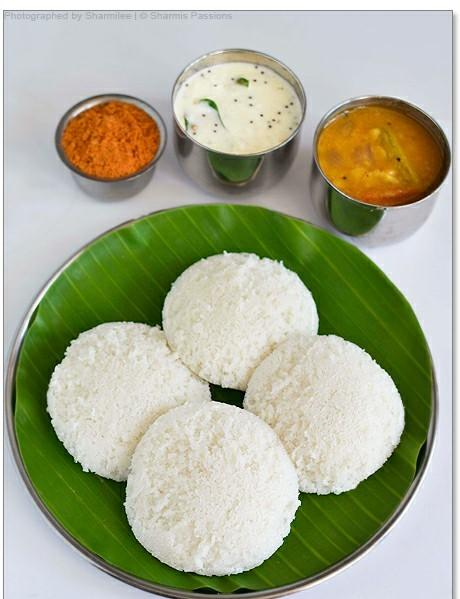Idli: (124, 403, 296, 571), (244, 332, 403, 493), (48, 321, 212, 476), (164, 251, 323, 392)
